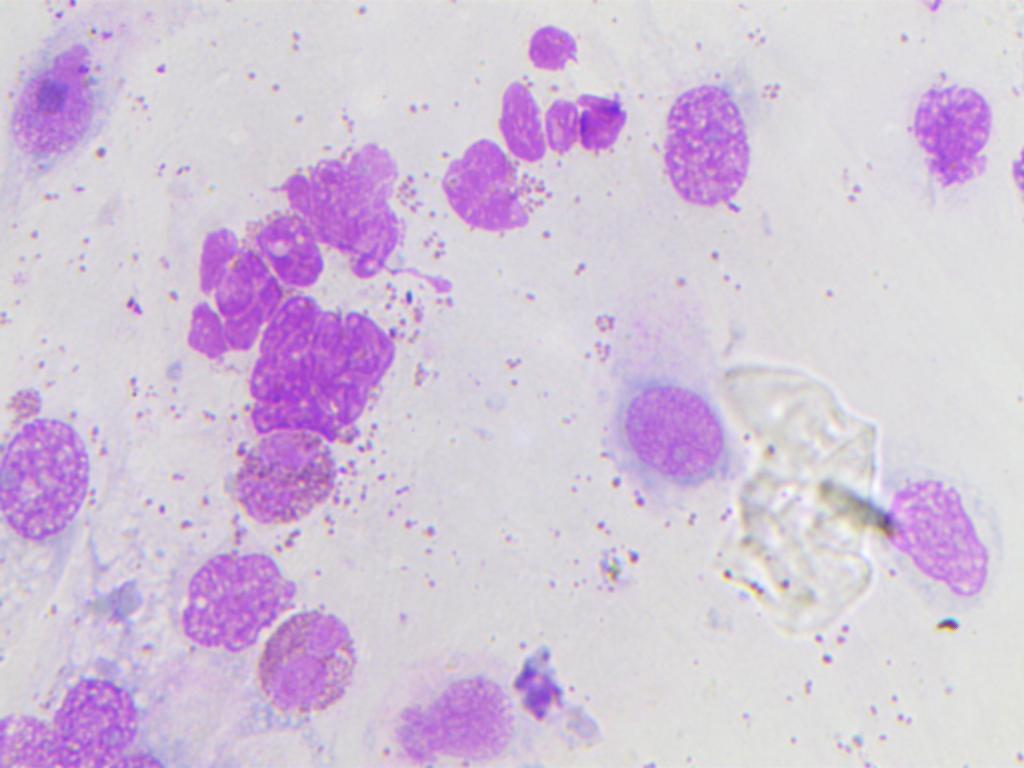artifact: (713, 342, 904, 629), (218, 306, 437, 434), (290, 137, 411, 287), (481, 81, 633, 160), (517, 637, 572, 724)
eosinophil: (649, 79, 757, 216), (250, 605, 359, 720), (229, 426, 344, 525), (900, 79, 1003, 189), (441, 130, 543, 238)
epithelial: (0, 383, 94, 551), (154, 552, 298, 658), (616, 364, 729, 499), (878, 468, 993, 599), (5, 39, 108, 160), (394, 670, 516, 768), (49, 667, 143, 767), (519, 15, 585, 77)
neutrophil: (192, 220, 287, 350)
